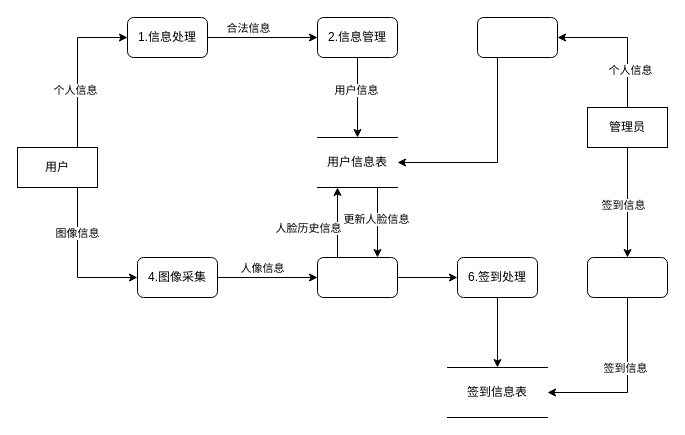
This 685x435 diagram has some shape labels left out. The centre of each missing label's shape, as x and y in pixels:
"3.用户信息管理" belongs at point 517,37.
"5.图像处理" belongs at point 357,277.
"7.签到管理" belongs at point 627,277.
